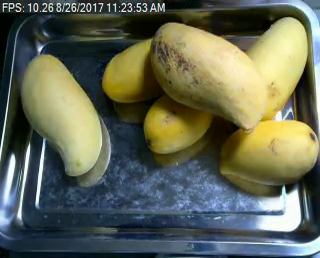Mango: (151, 23, 267, 129), (18, 54, 103, 176), (234, 14, 308, 122), (221, 120, 320, 187), (143, 93, 215, 154), (100, 36, 166, 102)
